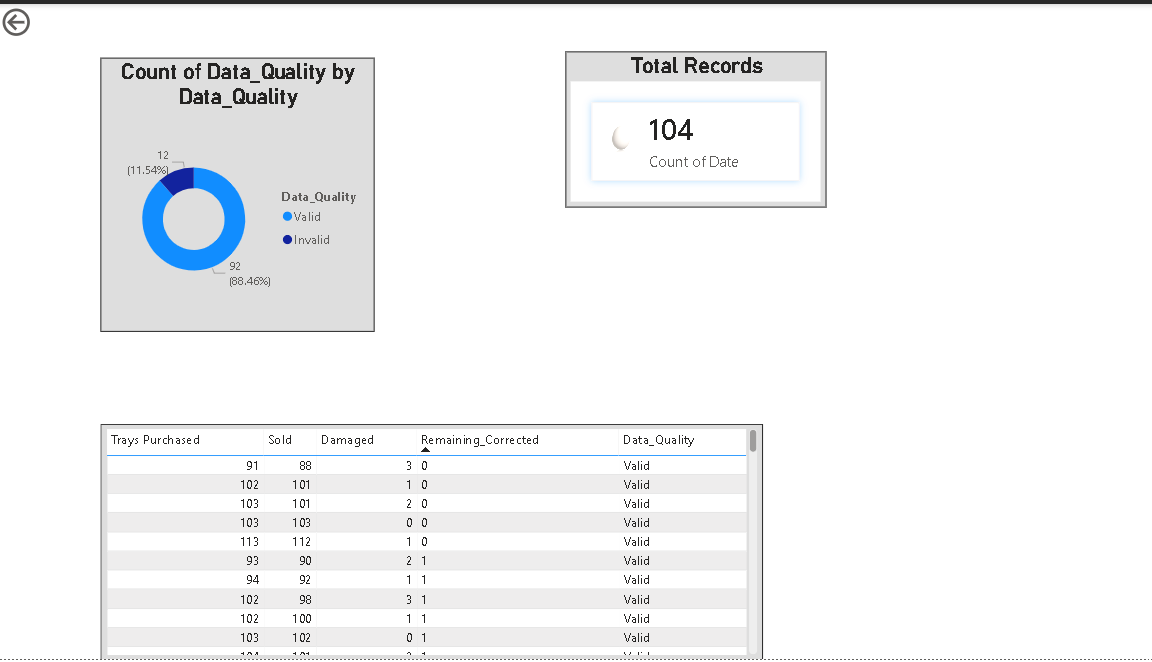

The page's visual inventory and layout, read from the dashboard file:
{"tool":"powerbi","page":{"name":" Data Quality Dashboard","canvas":[1280,720],"ordinal":2},"visuals":[{"type":"donutChart","fields":{"Y":["CountNonNull(Egg_Sales_Cleaned.Data_Quality)"],"Category":["Egg_Sales_Cleaned.Data_Quality"]},"box":[112.5,59,300.5,300.5],"z":1000},{"type":"tableEx","fields":{"Values":["Egg_Sales_Cleaned.Trays Purchased","Egg_Sales_Cleaned.Sold","Egg_Sales_Cleaned.Damaged","Egg_Sales_Cleaned.Remaining_Corrected","Egg_Sales_Cleaned.Data_Quality"]},"box":[112.5,461.1,727.3,259.3],"z":2000},{"type":"actionButton","box":[0,0,100,40],"z":3000},{"type":"cardVisual","title":"Total Records","fields":{"Data":["CountNonNull(Egg_Sales_Cleaned.Date)"]},"box":[623,52.1,286.8,171.5],"z":4000}]}

Visuals, with their boxes on the page's 1280x720 design canvas (x1, y1, x2, y2). These are canvas units, not pixel positions in the 1152x662 screenshot, which may show the page scaled, cropped or inside an application window:
donutChart - CountNonNull(Egg_Sales_Cleaned.Data_Quality) x Egg_Sales_Cleaned.Data_Quality: [112, 59, 413, 360]
tableEx - Egg_Sales_Cleaned.Trays Purchased x Egg_Sales_Cleaned.Sold: [112, 461, 840, 720]
actionButton: [0, 0, 100, 40]
"Total Records" cardVisual: [623, 52, 910, 224]
